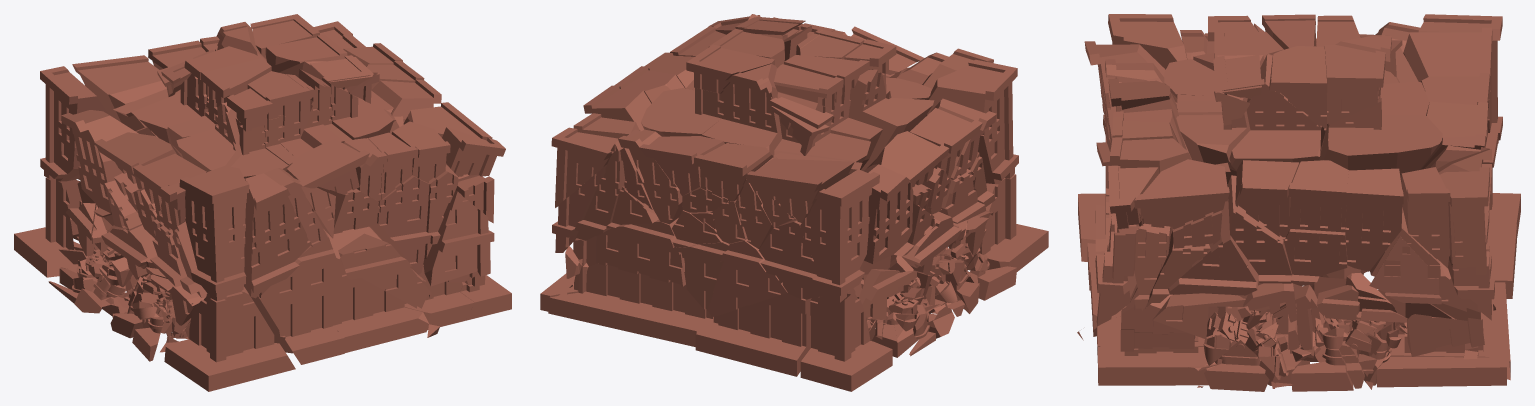
The model's file is fire-station-broken.fbx.
The picture shows the model from 3 angles, left to right: view 1: azimuth 30°, elevation 25°; view 2: azimuth 150°, elevation 25°; view 3: azimuth 270°, elevation 25°; orthographic projection. The views are drawn at different scales.
Parts seen in each view (by area): view 1: Fire_Station_cell.073, Fire_Station_cell.114, Fire_Station_cell.019, Fire_Station_cell.085, Fire_Station_cell.143, Fire_Station_cell.051, Fire_Station_cell.021, Fire_Station_cell.186, Fire_Station_cell.076, Fire_Station_cell.083, Fire_Station_cell.037, Fire_Station_cell.165 (+56 smaller); view 2: Fire_Station_cell.178, Fire_Station_cell.021, Fire_Station_cell.133, Fire_Station_cell.186, Fire_Station_cell.114, Fire_Station_cell.061, Fire_Station_cell.057, Fire_Station_cell.165, Fire_Station_cell.073, Fire_Station_cell.083, Fire_Station_cell.012, Fire_Station_cell.081 (+53 smaller); view 3: Fire_Station_cell.074, Fire_Station_cell.169, Fire_Station_cell.196, Fire_Station_cell.136, Fire_Station_cell.145, Fire_Station_cell.098, Fire_Station_cell.193, Fire_Station_cell.083, Fire_Station_cell.126, Fire_Station_cell.071, Fire_Station_cell.106, Fire_Station_cell.024 (+70 smaller).
Part boxes in pixels (x1,y1,x2,y2): Fire_Station_cell.073: (164,287,295,391); Fire_Station_cell.114: (179,166,249,300); Fire_Station_cell.019: (258,229,344,364); Fire_Station_cell.085: (244,173,311,298); Fire_Station_cell.143: (327,227,428,352); Fire_Station_cell.051: (423,190,494,286); Fire_Station_cell.021: (40,66,109,181); Fire_Station_cell.186: (14,177,82,277); Fire_Station_cell.076: (369,175,430,274); Fire_Station_cell.083: (72,55,166,130); Fire_Station_cell.037: (338,233,431,308); Fire_Station_cell.165: (61,110,138,217); Fire_Station_cell.178: (548,263,713,346); Fire_Station_cell.021: (800,169,879,302); Fire_Station_cell.133: (695,292,811,376); Fire_Station_cell.186: (800,288,892,391); Fire_Station_cell.114: (925,59,1018,184); Fire_Station_cell.061: (702,64,782,157); Fire_Station_cell.057: (596,218,685,286); Fire_Station_cell.165: (863,164,913,263); Fire_Station_cell.073: (948,174,1048,271); Fire_Station_cell.083: (746,158,854,222); Fire_Station_cell.012: (848,69,934,170); Fire_Station_cell.081: (707,238,787,316); Fire_Station_cell.074: (1319,91,1442,181); Fire_Station_cell.169: (1229,54,1321,170); Fire_Station_cell.196: (1345,168,1403,271); Fire_Station_cell.136: (1134,159,1229,229); Fire_Station_cell.145: (1097,342,1218,385); Fire_Station_cell.098: (1440,167,1489,274); Fire_Station_cell.193: (1288,160,1348,232); Fire_Station_cell.083: (1403,27,1492,84); Fire_Station_cell.126: (1377,357,1506,387); Fire_Station_cell.071: (1324,45,1385,124); Fire_Station_cell.106: (1168,199,1258,295); Fire_Station_cell.024: (1401,167,1450,268).
Bounding box in the file's own units: 6669 × 4386 × 6627.
